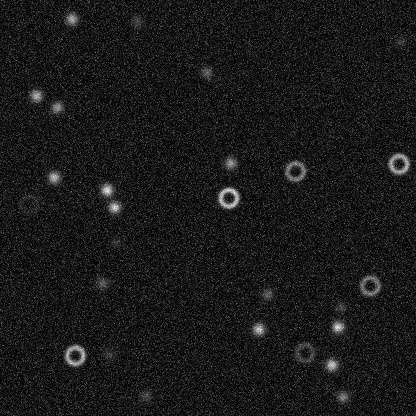Ring: (358, 273, 382, 297), (386, 151, 410, 175), (292, 340, 316, 364), (216, 185, 240, 209), (283, 159, 307, 183), (16, 192, 40, 216), (62, 343, 86, 367)
Spot: (45, 169, 61, 185), (332, 299, 348, 315), (259, 286, 275, 302), (101, 345, 117, 361), (63, 10, 79, 26), (334, 388, 350, 404), (391, 33, 407, 49), (250, 321, 266, 337), (107, 234, 123, 250), (222, 155, 238, 171), (329, 318, 345, 334), (198, 64, 214, 80), (137, 387, 153, 403), (98, 181, 114, 197), (28, 87, 44, 103), (128, 13, 144, 29), (94, 274, 110, 290), (106, 199, 122, 215), (48, 99, 64, 115), (323, 356, 339, 372)
